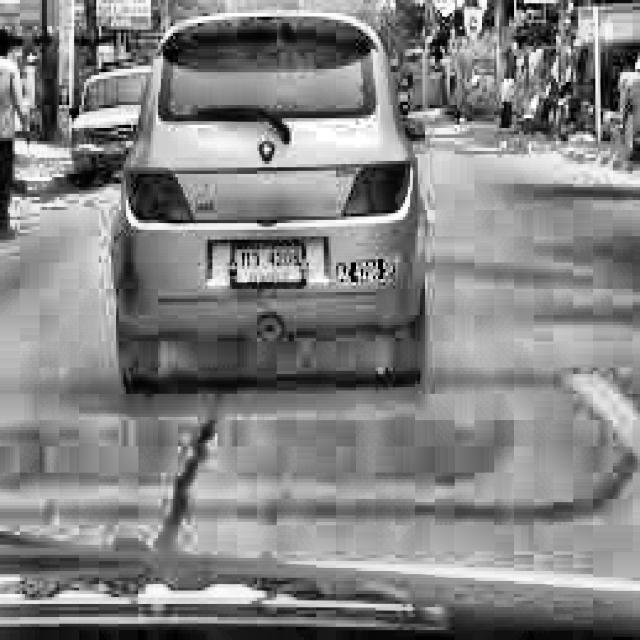license-plate: (226, 237, 309, 290)
